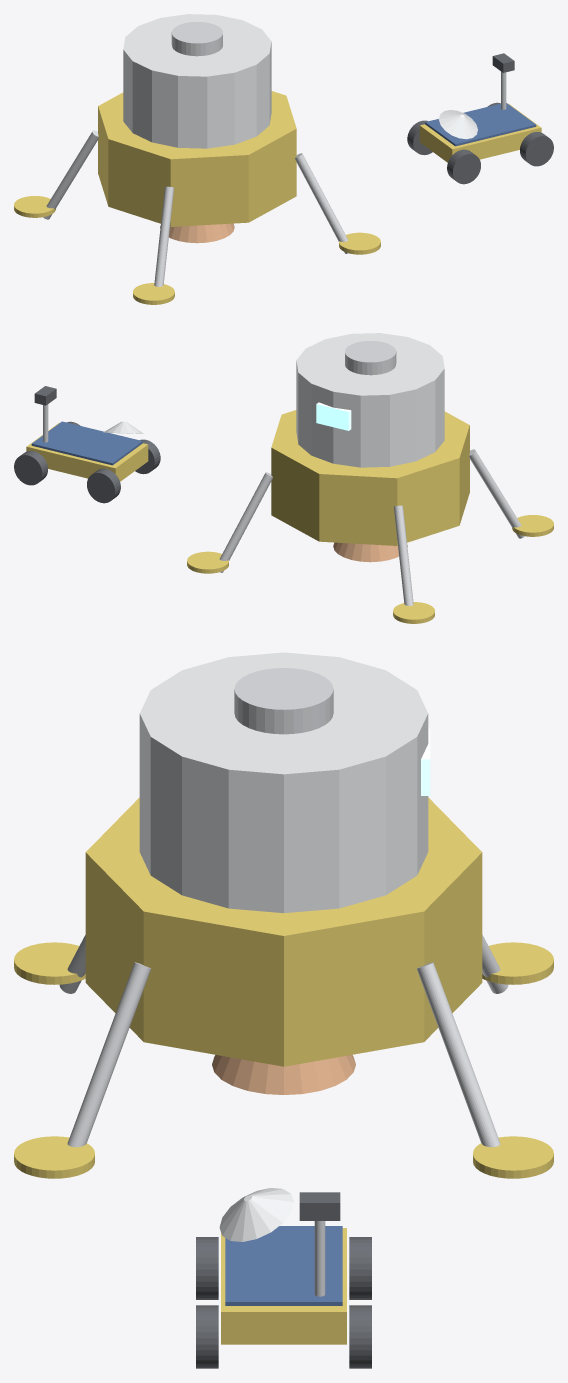
The model's file is lander_rover.glb.
3 renders of one model, top to bottom at view 1: azimuth 30°, elevation 25°; view 2: azimuth 150°, elevation 25°; view 3: azimuth 270°, elevation 25°, orthographic. The views are drawn at different scales.
Visible parts, largest first — view 1: Lander_Descent_Bus, Lander_Ascent_Cabin, Rover_Chassis, Rover_Solar_Array, Docking_Hatch, Lander_Engine_Nozzle, Landing_Strut_2, Landing_Strut_3, Rover_Wheel_-9_-8, Rover_Wheel_9_-8, Landing_Strut_1, Rover_HighGain_Dish (+4 smaller); view 2: Lander_Descent_Bus, Lander_Ascent_Cabin, Rover_Solar_Array, Rover_Chassis, Docking_Hatch, Lander_Engine_Nozzle, Landing_Strut_1, Landing_Strut_0, Rover_Wheel_-9_8, Rover_Wheel_9_8, Landing_Strut_2, Landing_Footpad_1 (+4 smaller); view 3: Lander_Descent_Bus, Lander_Ascent_Cabin, Rover_Solar_Array, Docking_Hatch, Rover_Chassis, Lander_Engine_Nozzle, Landing_Strut_0, Landing_Strut_3, Rover_HighGain_Dish, Landing_Footpad_0, Landing_Footpad_3, Landing_Footpad_1 (+7 smaller).
Part boxes in pixels (x1,y1,x2,y2): Lander_Descent_Bus: (98, 91, 296, 226); Lander_Ascent_Cabin: (123, 14, 271, 148); Rover_Chassis: (419, 103, 541, 162); Rover_Solar_Array: (425, 103, 536, 146); Docking_Hatch: (171, 22, 222, 56); Lander_Engine_Nozzle: (160, 223, 234, 243); Landing_Strut_2: (154, 186, 174, 286); Landing_Strut_3: (295, 153, 348, 253); Rover_Wheel_-9_-8: (447, 149, 480, 184); Rover_Wheel_9_-8: (520, 132, 553, 166); Landing_Strut_1: (43, 130, 98, 219); Rover_HighGain_Dish: (439, 110, 477, 139); Lander_Descent_Bus: (271, 410, 469, 545); Lander_Ascent_Cabin: (296, 333, 444, 467); Rover_Solar_Array: (31, 421, 142, 465); Rover_Chassis: (26, 422, 148, 481); Docking_Hatch: (345, 341, 396, 375); Lander_Engine_Nozzle: (333, 542, 407, 562); Landing_Strut_1: (393, 505, 413, 605); Landing_Strut_0: (219, 472, 272, 572); Rover_Wheel_-9_8: (87, 468, 120, 503); Rover_Wheel_9_8: (14, 451, 47, 485); Landing_Strut_2: (469, 449, 524, 538); Landing_Footpad_1: (393, 602, 434, 623); Lander_Descent_Bus: (85, 797, 482, 1066); Lander_Ascent_Cabin: (139, 652, 428, 913); Rover_Solar_Array: (225, 1226, 342, 1305); Docking_Hatch: (234, 668, 333, 734); Rover_Chassis: (221, 1228, 346, 1344); Lander_Engine_Nozzle: (212, 1055, 355, 1094); Landing_Strut_0: (416, 962, 500, 1147); Landing_Strut_3: (67, 962, 151, 1147); Rover_HighGain_Dish: (219, 1188, 293, 1241); Landing_Footpad_0: (473, 1136, 553, 1178); Landing_Footpad_3: (14, 1136, 94, 1178); Landing_Footpad_1: (482, 942, 553, 984).
Size of the model in its own units: 11.25 by 4.8 by 5.99.
